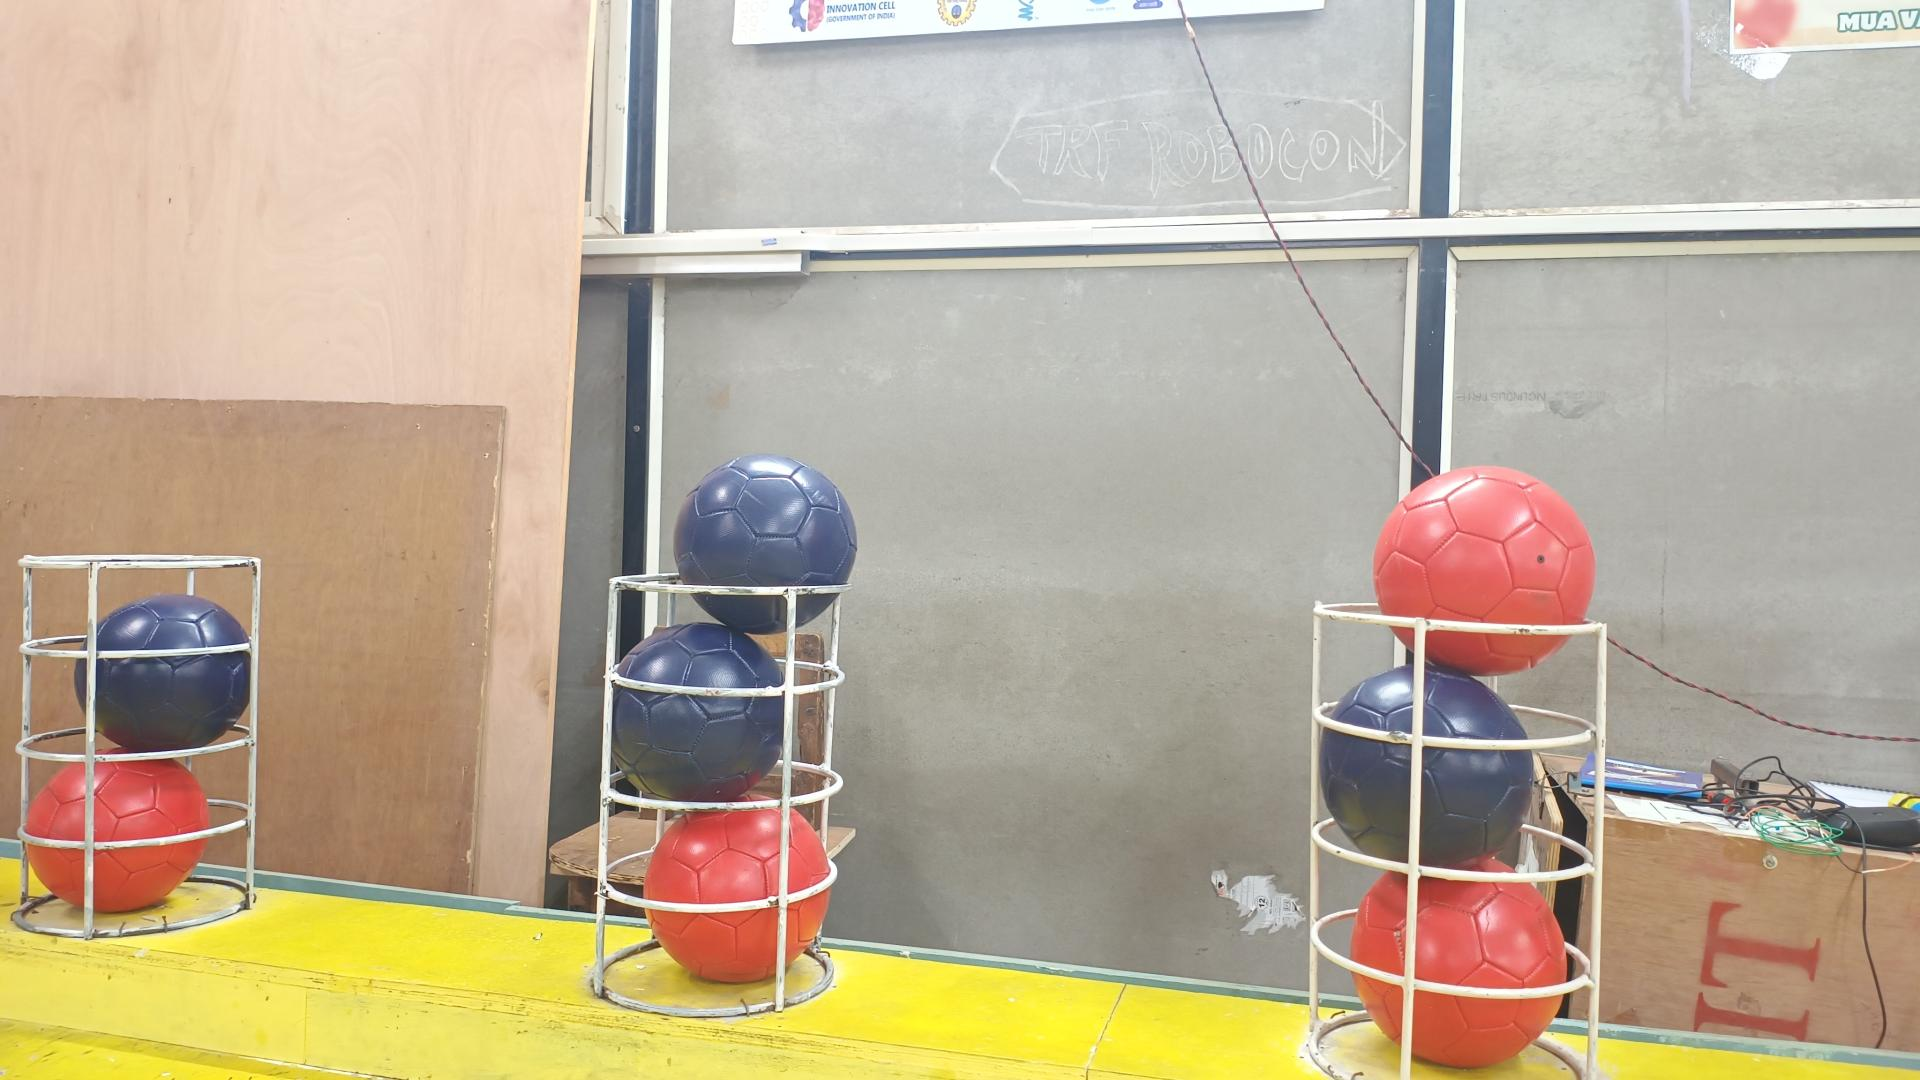dhoka: (1320, 663, 1534, 870), (675, 454, 855, 634), (612, 622, 787, 803), (75, 592, 252, 754)
laale: (1373, 465, 1594, 679), (1350, 855, 1572, 1068), (641, 810, 832, 982), (26, 761, 210, 911)
